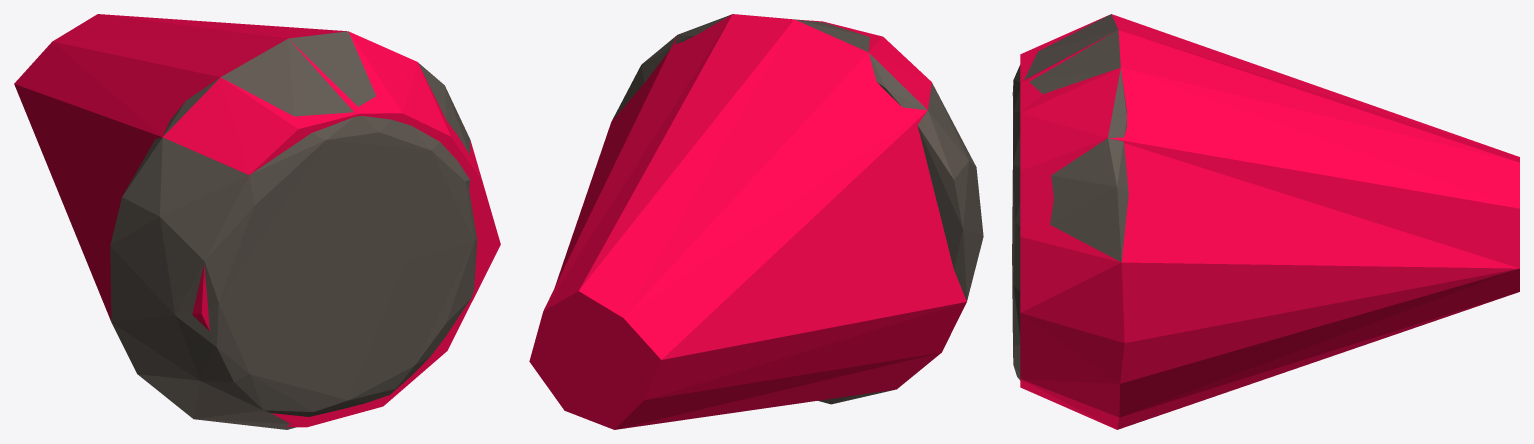
File: arcade_stick.fbx
The picture shows the model from 3 angles, left to right: view 1: azimuth 30°, elevation 25°; view 2: azimuth 150°, elevation 25°; view 3: azimuth 270°, elevation 25°; orthographic projection.
Parts seen in each view (by area): view 1: Arcade Stick - Base, Arcade Stick - Physx; view 2: Arcade Stick - Physx, Arcade Stick - Base; view 3: Arcade Stick - Physx, Arcade Stick - Base.
Boxes of the visible parts, x1=… form: Arcade Stick - Base: x1=110, y1=31, x2=477, y2=429; Arcade Stick - Physx: x1=14, y1=14, x2=500, y2=427; Arcade Stick - Physx: x1=529, y1=14, x2=966, y2=429; Arcade Stick - Base: x1=612, y1=14, x2=983, y2=404; Arcade Stick - Physx: x1=1020, y1=14, x2=1519, y2=429; Arcade Stick - Base: x1=1012, y1=14, x2=1128, y2=380.
Bounding box in the file's own units: 14.02 × 17.47 × 14.18.
